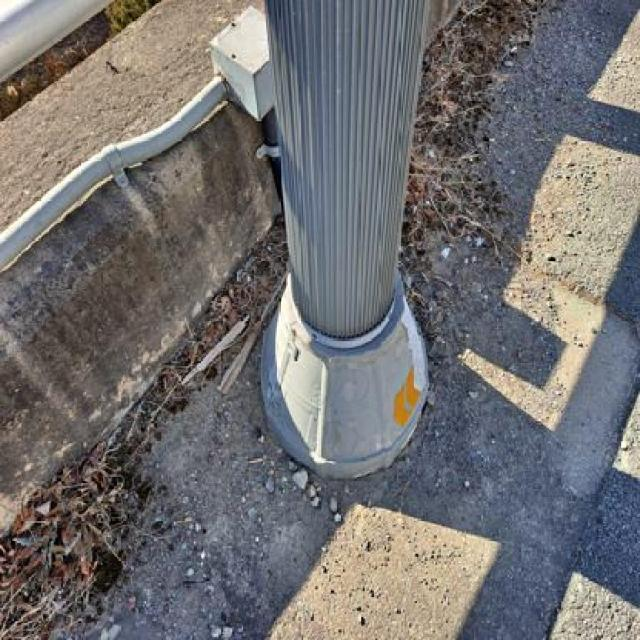pole: (228, 0, 452, 488)
